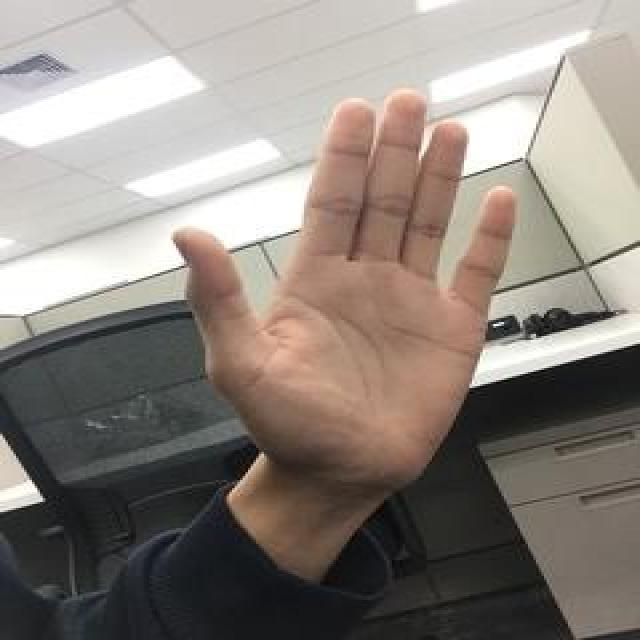no-gloves: (174, 83, 518, 497)
